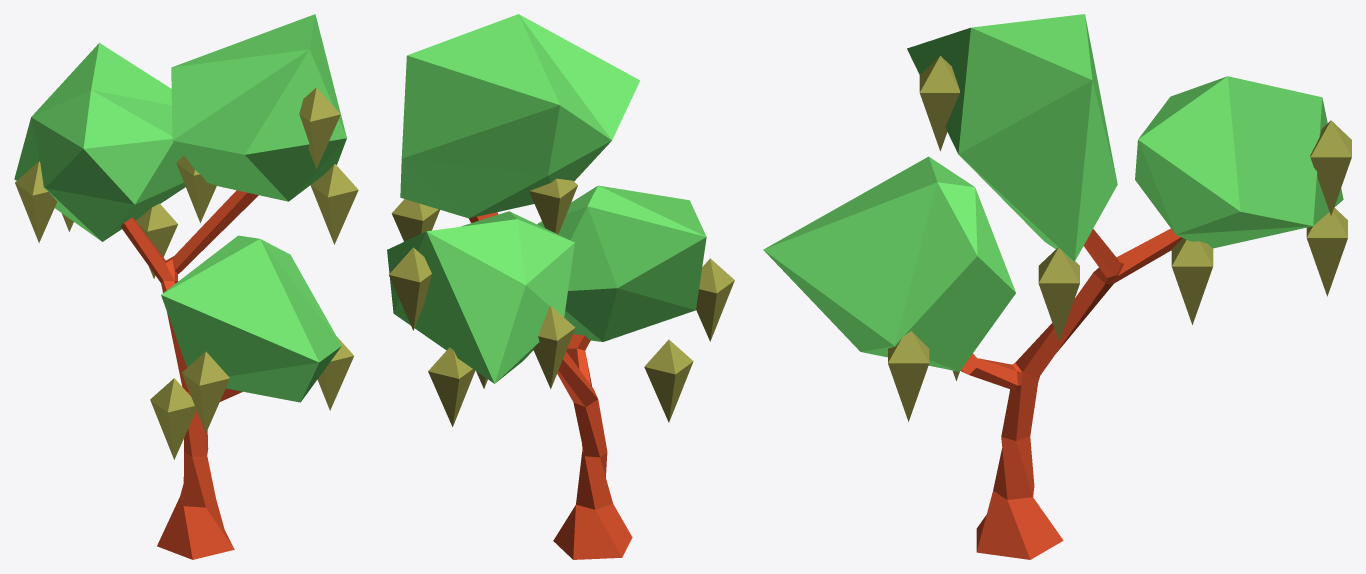
Rendered from TreeWithFruit1.fbx.
3 views of the same model, side by side, from view 1: azimuth 30°, elevation 25°; view 2: azimuth 150°, elevation 25°; view 3: azimuth 270°, elevation 25° (orthographic). The views are drawn at different scales.
Parts seen in each view (by area): view 1: Circle; view 2: Circle; view 3: Circle.
Boxes of the visible parts, x1,y1,x2,y2 form: Circle: (14, 14, 358, 559); Circle: (387, 14, 734, 559); Circle: (763, 14, 1351, 559).
Size of the model in its own units: 491 by 928 by 874.
